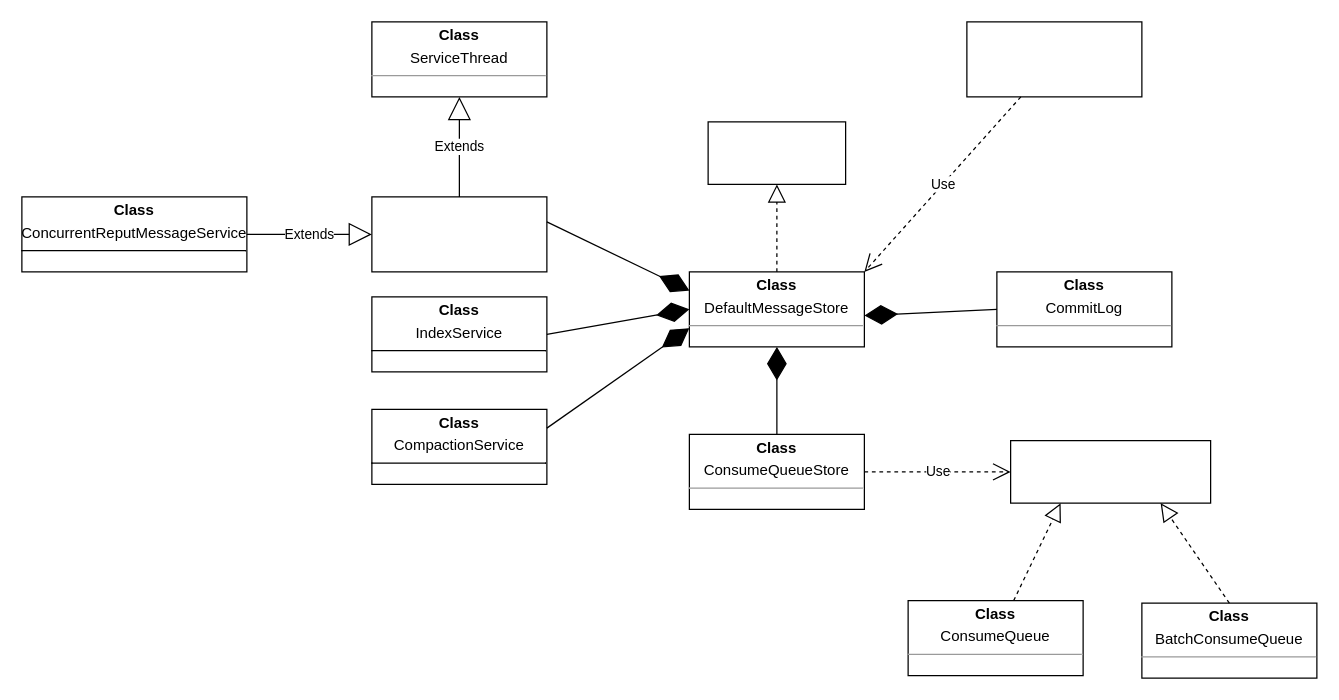
Image size: 1339x700. Some labels were removed from this diagram. Here are the shapes that lost their labels. From the top down, the box of each, then its label:
(966, 21, 1142, 97): Class BrokerController
(707, 121, 846, 184): «interface» MessageStore
(371, 196, 547, 272): Class ReputMessageService
(1009, 439, 1211, 503): «interface» ConsumeQueueInterface
